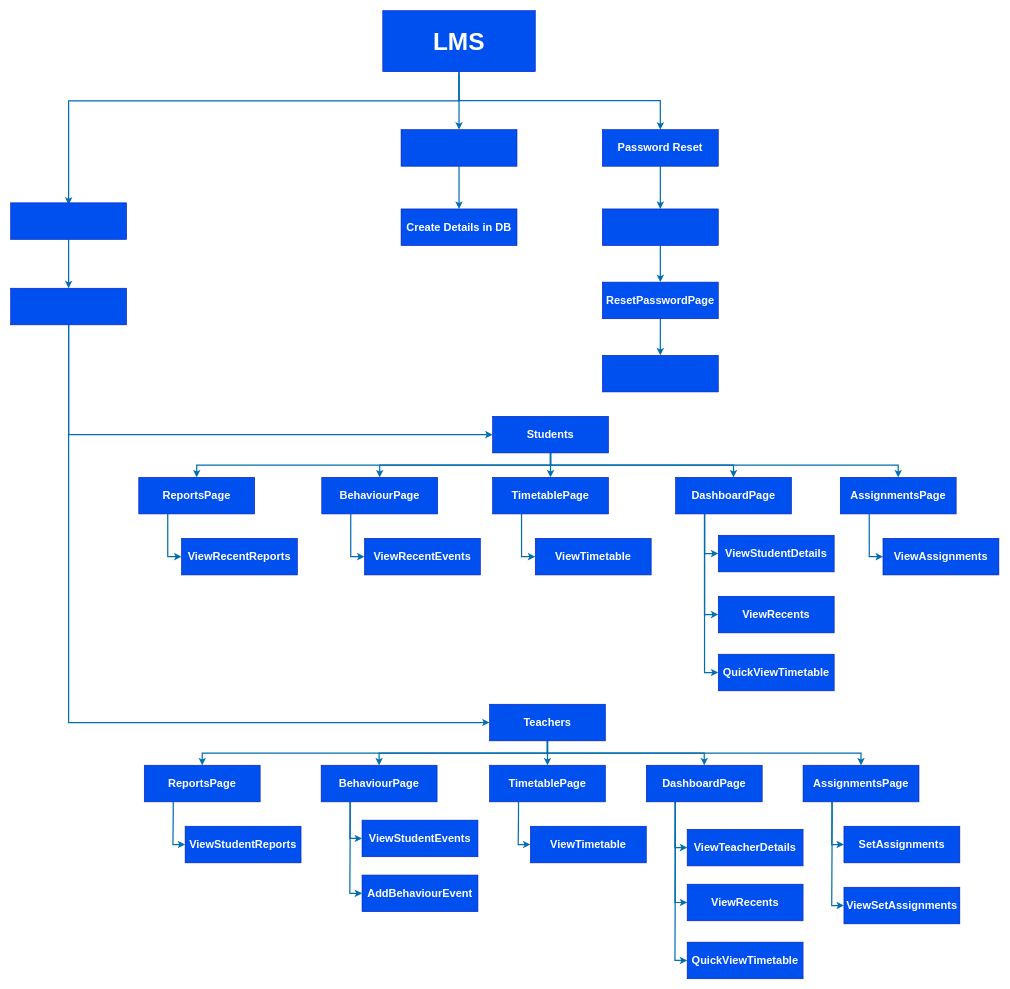
Image size: 1010x989. Some labels were removed from this diagram. The shapes that lost their labels are listed below. From the top down, each one's centre as x and y in pixels, then its label:
At (458,147): "Signup".
At (68,220): "Login".
At (660,227): "Send Reset Email".
At (68,306): "Check Details with DB".
At (660,373): "Update Password in DB".
